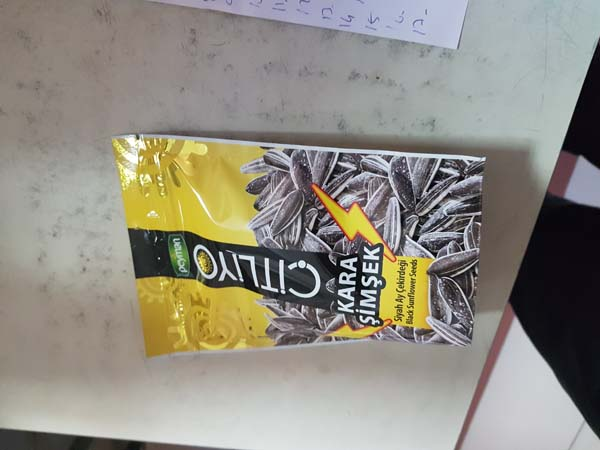citliyokarasimsek: (103, 127, 491, 357)
